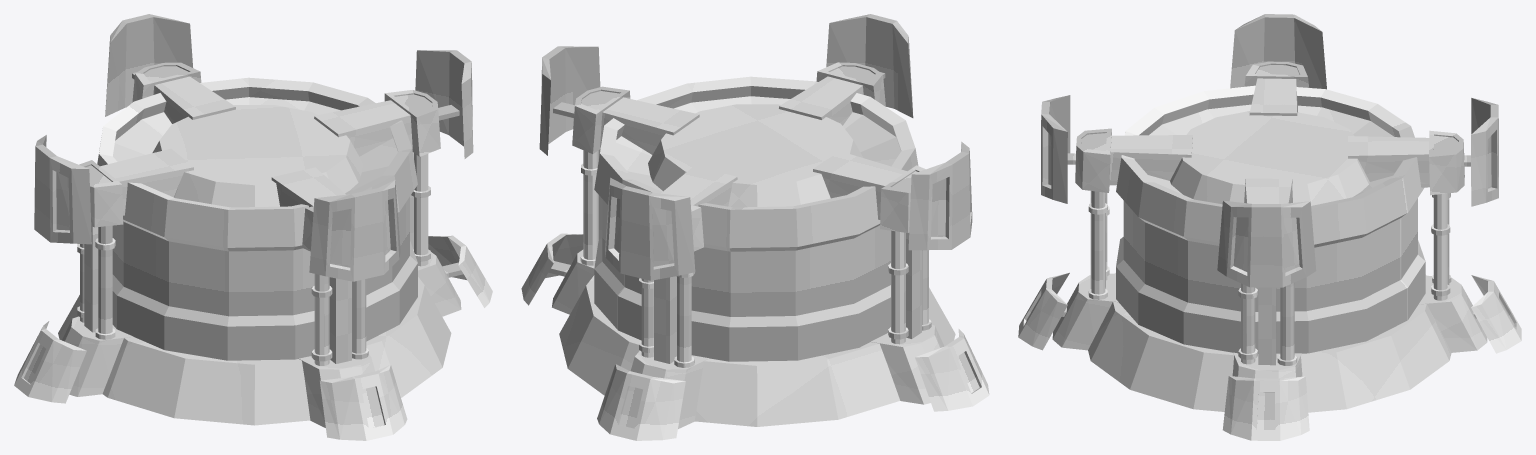
File: shield_generator_base.obj
The picture shows the model from 3 angles, left to right: view 1: azimuth 30°, elevation 25°; view 2: azimuth 150°, elevation 25°; view 3: azimuth 270°, elevation 25°; orthographic projection. The views are drawn at different scales.
Parts seen in each view (by area): view 1: Shield_generatorpCylinder1_Shield_generatorlambert5_0, Shield_generatorpolySurface1_Shield_generatorlambert5_0, Shield_generatorpCylinder3_Shield_generatorlambert5_0, Shield_generatorpolySurface7_Shield_generatorlambert5_0_2, Shield_generatorpolySurface8_Shield_generatorlambert5_0_2, Shield_generatorpolySurface7_Shield_generatorlambert5_0, Shield_generatorpolySurface7_Shield_generatorlambert5_0_3, Shield_generatorpolySurface7_Shield_generatorlambert5_0_1, Shield_generatorpolySurface8_Shield_generatorlambert5_0_3, Shield_generatorpolySurface6_Shield_generatorlambert5_0_1, Shield_generatorpolySurface3_Shield_generatorlambert5_0_3, Shield_generatorpolySurface6_Shield_generatorlambert5_0_3 (+14 smaller); view 2: Shield_generatorpCylinder1_Shield_generatorlambert5_0, Shield_generatorpolySurface1_Shield_generatorlambert5_0, Shield_generatorpCylinder3_Shield_generatorlambert5_0, Shield_generatorpolySurface7_Shield_generatorlambert5_0, Shield_generatorpolySurface7_Shield_generatorlambert5_0_3, Shield_generatorpolySurface7_Shield_generatorlambert5_0_2, Shield_generatorpolySurface8_Shield_generatorlambert5_0, Shield_generatorpolySurface7_Shield_generatorlambert5_0_1, Shield_generatorpolySurface8_Shield_generatorlambert5_0_3, Shield_generatorpolySurface6_Shield_generatorlambert5_0_1, Shield_generatorpolySurface3_Shield_generatorlambert5_0_3, Shield_generatorpolySurface6_Shield_generatorlambert5_0_3 (+16 smaller); view 3: Shield_generatorpCylinder1_Shield_generatorlambert5_0, Shield_generatorpolySurface1_Shield_generatorlambert5_0, Shield_generatorpCylinder3_Shield_generatorlambert5_0, Shield_generatorpolySurface7_Shield_generatorlambert5_0_1, Shield_generatorpolySurface8_Shield_generatorlambert5_0_1, Shield_generatorpolySurface7_Shield_generatorlambert5_0_3, Shield_generatorpolySurface7_Shield_generatorlambert5_0_2, Shield_generatorpolySurface6_Shield_generatorlambert5_0_2, Shield_generatorpolySurface7_Shield_generatorlambert5_0, Shield_generatorpolySurface6_Shield_generatorlambert5_0, Shield_generatorpolySurface3_Shield_generatorlambert5_0, Shield_generatorpolySurface3_Shield_generatorlambert5_0_2 (+13 smaller).
Boxes of the visible parts, x1,y1,x2,y2 form: Shield_generatorpCylinder1_Shield_generatorlambert5_0: (97,77,417,360); Shield_generatorpolySurface1_Shield_generatorlambert5_0: (58,277,451,425); Shield_generatorpCylinder3_Shield_generatorlambert5_0: (152,105,363,207); Shield_generatorpolySurface7_Shield_generatorlambert5_0_2: (309,180,400,281); Shield_generatorpolySurface8_Shield_generatorlambert5_0_2: (320,364,407,440); Shield_generatorpolySurface7_Shield_generatorlambert5_0: (105,14,192,116); Shield_generatorpolySurface7_Shield_generatorlambert5_0_3: (34,135,91,244); Shield_generatorpolySurface7_Shield_generatorlambert5_0_1: (415,50,473,158); Shield_generatorpolySurface8_Shield_generatorlambert5_0_3: (14,321,86,403); Shield_generatorpolySurface6_Shield_generatorlambert5_0_1: (314,100,412,156); Shield_generatorpolySurface3_Shield_generatorlambert5_0_3: (62,316,133,396); Shield_generatorpolySurface6_Shield_generatorlambert5_0_3: (100,148,193,215); Shield_generatorpCylinder1_Shield_generatorlambert5_0: (594,76,918,361); Shield_generatorpolySurface1_Shield_generatorlambert5_0: (559,275,955,426); Shield_generatorpCylinder3_Shield_generatorlambert5_0: (648,104,863,207); Shield_generatorpolySurface7_Shield_generatorlambert5_0: (605,177,695,280); Shield_generatorpolySurface7_Shield_generatorlambert5_0_3: (908,141,972,250); Shield_generatorpolySurface7_Shield_generatorlambert5_0_2: (826,14,913,117); Shield_generatorpolySurface8_Shield_generatorlambert5_0: (597,364,685,440); Shield_generatorpolySurface7_Shield_generatorlambert5_0_1: (539,46,600,155); Shield_generatorpolySurface8_Shield_generatorlambert5_0_3: (915,329,989,411); Shield_generatorpolySurface6_Shield_generatorlambert5_0_1: (600,97,699,154); Shield_generatorpolySurface3_Shield_generatorlambert5_0_3: (871,324,944,404); Shield_generatorpolySurface6_Shield_generatorlambert5_0_3: (813,151,906,219); Shield_generatorpCylinder1_Shield_generatorlambert5_0: (1116,85,1425,353); Shield_generatorpolySurface1_Shield_generatorlambert5_0: (1088,273,1451,412); Shield_generatorpCylinder3_Shield_generatorlambert5_0: (1170,111,1369,205); Shield_generatorpolySurface7_Shield_generatorlambert5_0_1: (1217,200,1316,287); Shield_generatorpolySurface8_Shield_generatorlambert5_0_1: (1222,376,1309,440); Shield_generatorpolySurface7_Shield_generatorlambert5_0_3: (1230,14,1326,89); Shield_generatorpolySurface7_Shield_generatorlambert5_0_2: (1041,95,1070,203); Shield_generatorpolySurface6_Shield_generatorlambert5_0_2: (1109,135,1192,185); Shield_generatorpolySurface7_Shield_generatorlambert5_0: (1471,98,1498,206); Shield_generatorpolySurface6_Shield_generatorlambert5_0: (1348,136,1429,187); Shield_generatorpolySurface3_Shield_generatorlambert5_0: (1418,275,1487,352); Shield_generatorpolySurface3_Shield_generatorlambert5_0_2: (1052,273,1118,350).
Size of the model in its own units: 0.8999 by 0.4456 by 0.8995.
